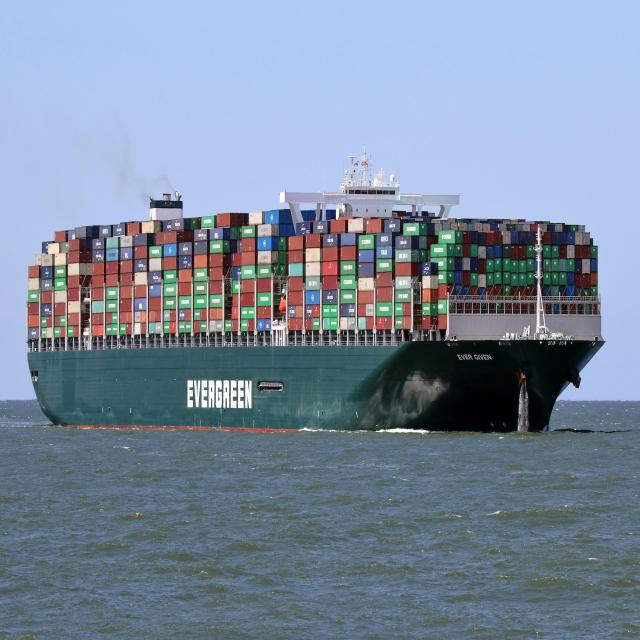boat: (19, 152, 612, 456)
